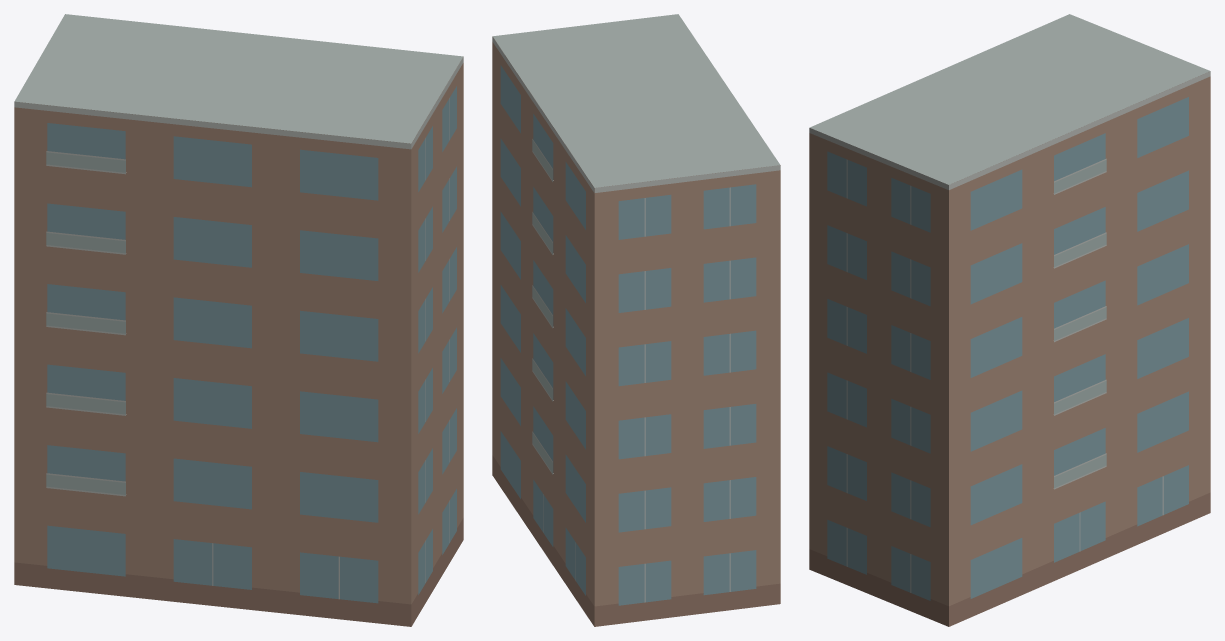
File: survey-upis-32947138.glb
The picture shows the model from 3 angles, left to right: view 1: azimuth 30°, elevation 25°; view 2: azimuth 150°, elevation 25°; view 3: azimuth 270°, elevation 25°; orthographic projection. The views are drawn at different scales.
Visible parts, largest first — view 1: survey-upis-32947138.tmp; view 2: survey-upis-32947138.tmp; view 3: survey-upis-32947138.tmp.
Part boxes in pixels (x1,y1,x2,y2): survey-upis-32947138.tmp: (14, 14, 463, 626); survey-upis-32947138.tmp: (492, 14, 780, 626); survey-upis-32947138.tmp: (809, 14, 1210, 626).
Bounding box in the file's own units: 16.94 × 20.4 × 16.79.
